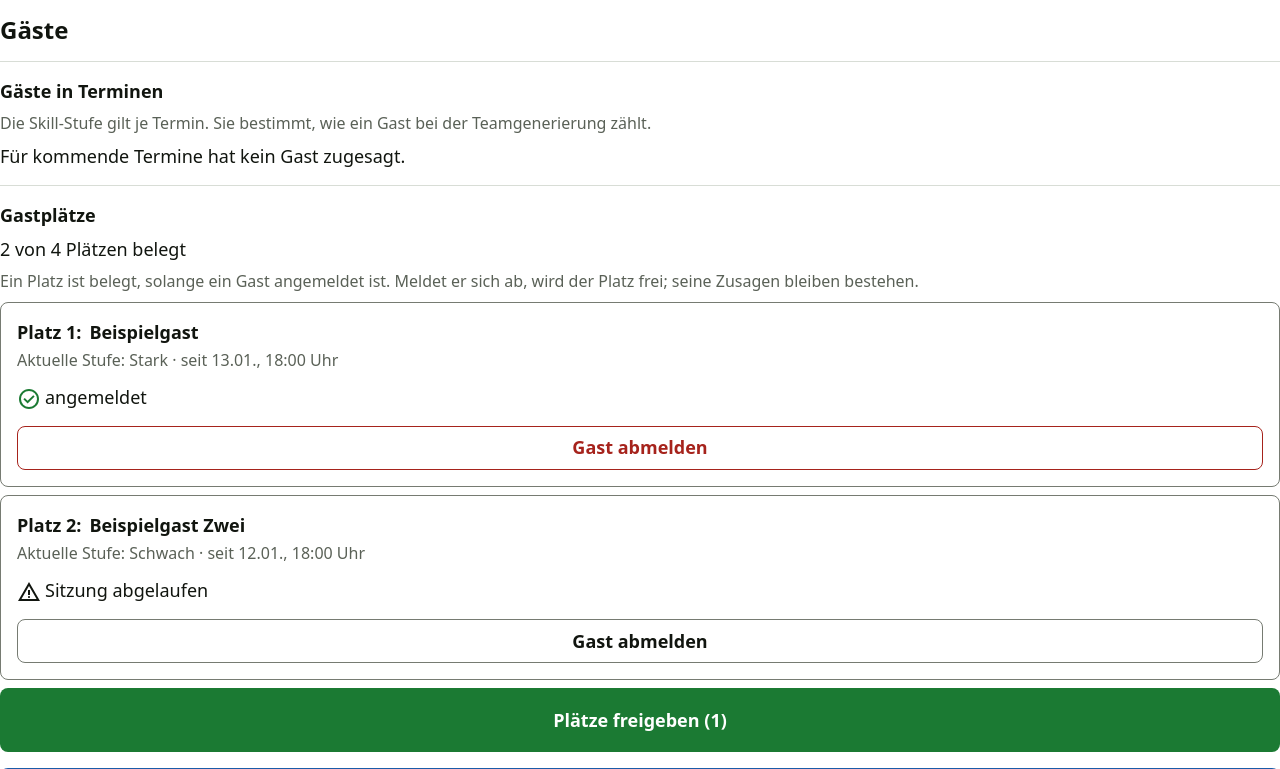
it: AdminGaeste – Freigeben › Bestätigen sendet genau diese slotIds, der Platz verschwindet aus der Liste, die Meldung steht da
The image size is (1280, 769).
Click the button with test id "admin-gast-freigeben-1". click: [640, 448]
box: x1=17 y1=426 x2=1263 y2=470
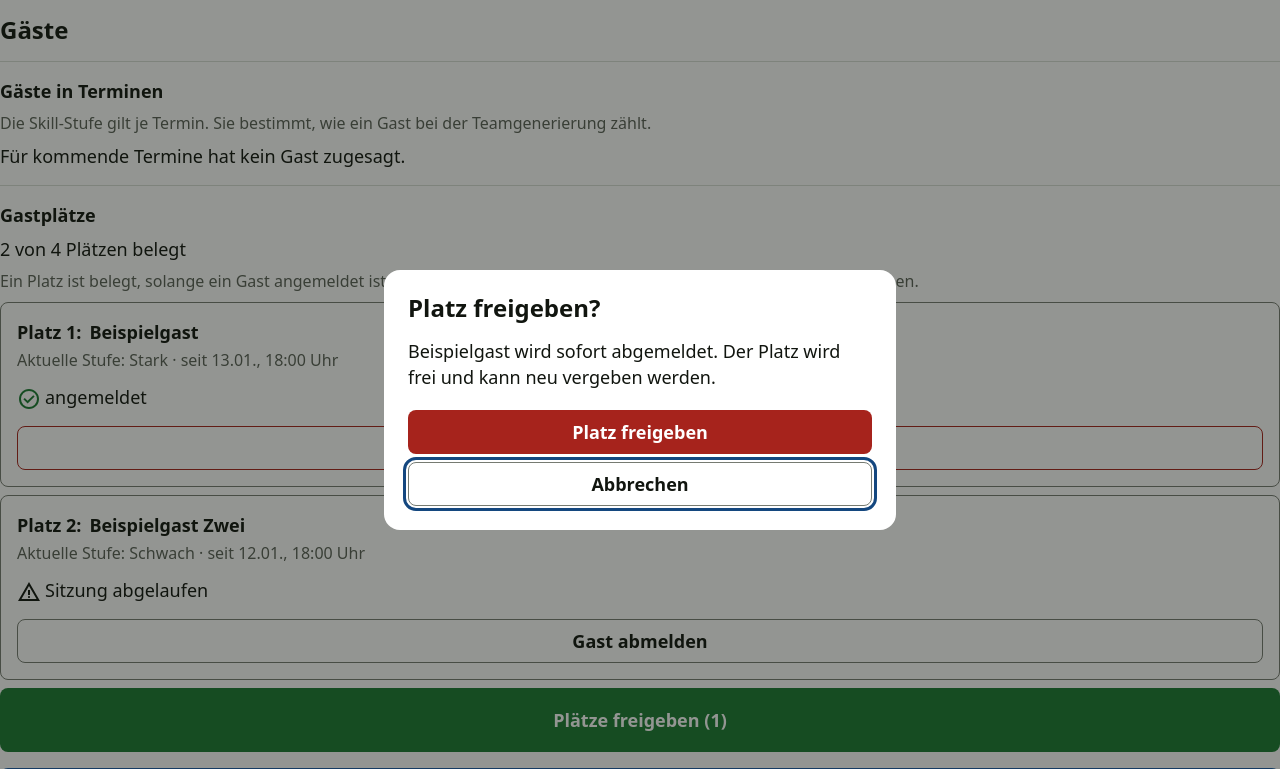
Click the button with test id "admin-gaeste-freigeben-dialog-bestaetigen". click: [640, 432]
box: x1=408 y1=410 x2=872 y2=454
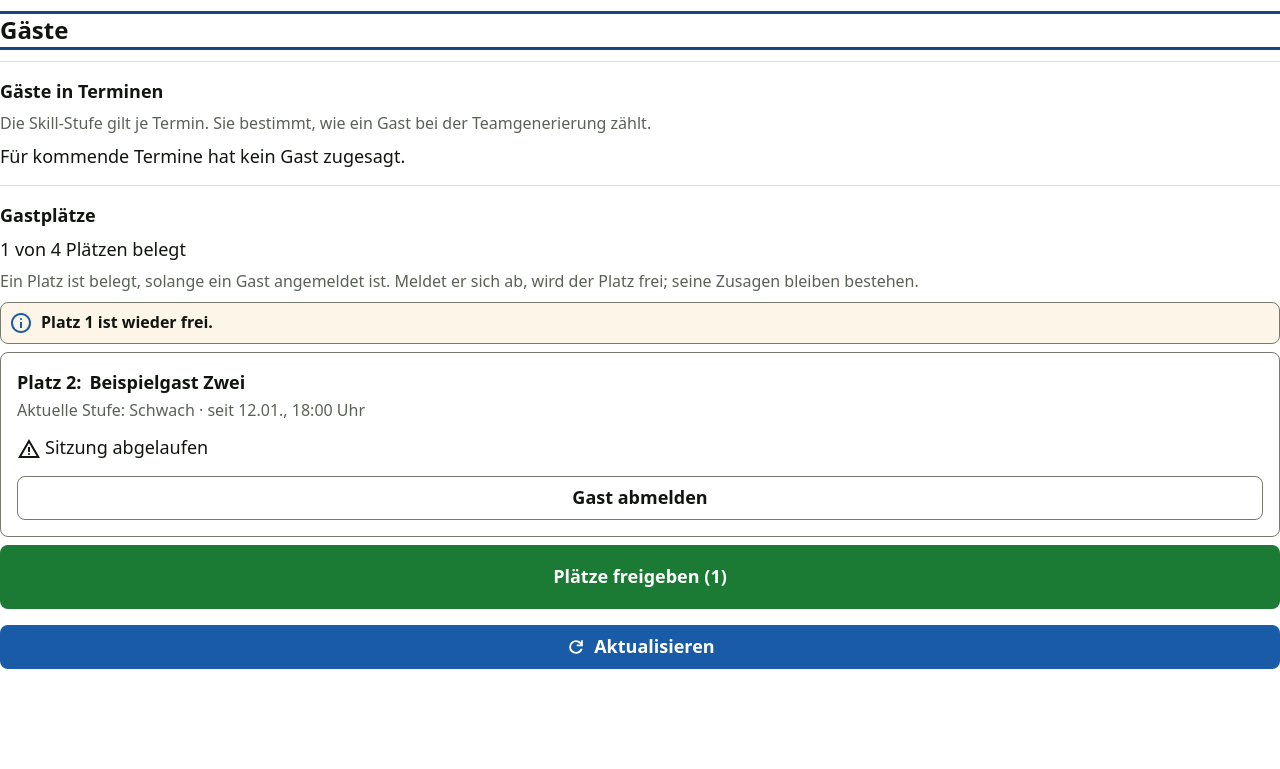
Expected: the list item with test id "admin-gast-1" is gone
Expected: the message with test id "admin-gaeste-hinweis" reads "Platz 1 ist wieder frei.", x1=41 y1=311 x2=213 y2=333
Expected: the text with test id "admin-gaeste-zusammenfassung" reads "1 von 4 Plätzen belegt", x1=0 y1=237 x2=186 y2=261
